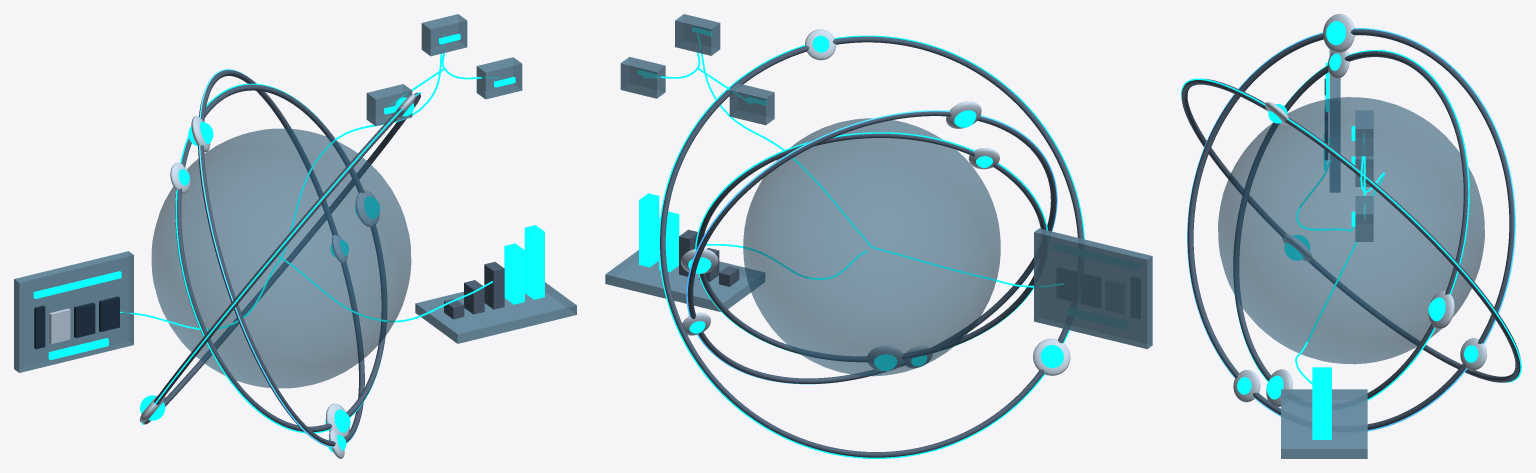
Rendered from nextlevel-core.glb.
3 views of the same model, side by side, from view 1: azimuth 30°, elevation 25°; view 2: azimuth 150°, elevation 25°; view 3: azimuth 270°, elevation 25° (orthographic). The views are drawn at different scales.
Visible parts, largest first — view 1: NL / Dynamic glass nucleus, NL / Web glass panel, NL / Analytics platform, NL / Titanium orbit 2, NL / Titanium orbit 1, NL / Titanium orbit 3, NL / Automation module 1, NL / Automation module 2, NL / Growth bar 5, NL / Growth bar 4, NL / Automation module 3, NL / Light trace 1 (+9 smaller); view 2: NL / Dynamic glass nucleus, NL / Web glass panel, NL / Titanium orbit 3, NL / Titanium orbit 2, NL / Titanium orbit 1, NL / Analytics platform, NL / Light trace 3, NL / Automation module 1, NL / Automation module 3, NL / Automation module 2, NL / Growth bar 5, NL / Light trace 2 (+5 smaller); view 3: NL / Dynamic glass nucleus, NL / Titanium orbit 2, NL / Analytics platform, NL / Titanium orbit 3, NL / Titanium orbit 1, NL / Light trace 2, NL / Growth bar 5, NL / Web glass panel, NL / Light trace 1, NL / Light trace 3, NL / Automation module 1, NL / Automation module 2 (+8 smaller).
Boxes of the visible parts, x1,y1,x2,y2 form: NL / Dynamic glass nucleus: [151, 128, 411, 388]; NL / Web glass panel: [14, 251, 133, 372]; NL / Analytics platform: [415, 282, 576, 343]; NL / Titanium orbit 2: [198, 70, 364, 446]; NL / Titanium orbit 1: [175, 84, 386, 431]; NL / Titanium orbit 3: [143, 92, 420, 424]; NL / Automation module 1: [421, 14, 467, 56]; NL / Automation module 2: [476, 57, 522, 99]; NL / Growth bar 5: [524, 225, 544, 299]; NL / Growth bar 4: [504, 243, 524, 304]; NL / Automation module 3: [366, 84, 412, 126]; NL / Light trace 1: [175, 83, 382, 433]; NL / Dynamic glass nucleus: [743, 118, 1000, 376]; NL / Web glass panel: [1034, 228, 1152, 349]; NL / Titanium orbit 3: [660, 36, 1083, 457]; NL / Titanium orbit 2: [687, 111, 1056, 383]; NL / Titanium orbit 1: [696, 133, 1046, 361]; NL / Analytics platform: [605, 250, 764, 311]; NL / Light trace 3: [658, 35, 1084, 458]; NL / Automation module 1: [675, 14, 720, 55]; NL / Automation module 3: [729, 83, 774, 125]; NL / Automation module 2: [620, 57, 665, 98]; NL / Growth bar 5: [639, 193, 659, 267]; NL / Light trace 2: [686, 110, 1057, 384]; NL / Dynamic glass nucleus: [1218, 97, 1484, 364]; NL / Titanium orbit 2: [1187, 29, 1514, 429]; NL / Analytics platform: [1281, 389, 1367, 458]; NL / Titanium orbit 3: [1181, 78, 1520, 382]; NL / Titanium orbit 1: [1233, 51, 1469, 398]; NL / Light trace 2: [1187, 28, 1515, 431]; NL / Growth bar 5: [1312, 367, 1331, 439]; NL / Web glass panel: [1329, 49, 1340, 192]; NL / Light trace 1: [1234, 50, 1469, 400]; NL / Light trace 3: [1181, 78, 1521, 382]; NL / Automation module 1: [1355, 110, 1373, 156]; NL / Automation module 2: [1355, 196, 1373, 241].
Bounding box in the file's own units: 5.82 × 3.71 × 3.14.
